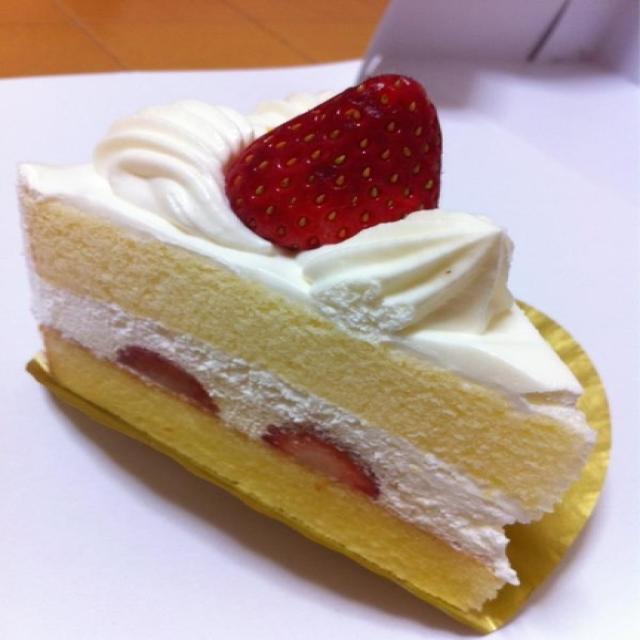蛋糕甜品: (7, 50, 621, 631)
